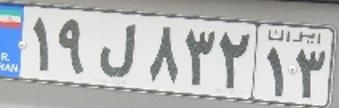character: (95, 16, 138, 79), (144, 20, 180, 85), (184, 23, 217, 91), (218, 26, 252, 92), (293, 43, 328, 102), (55, 14, 88, 76), (31, 14, 53, 74), (263, 43, 286, 97)
